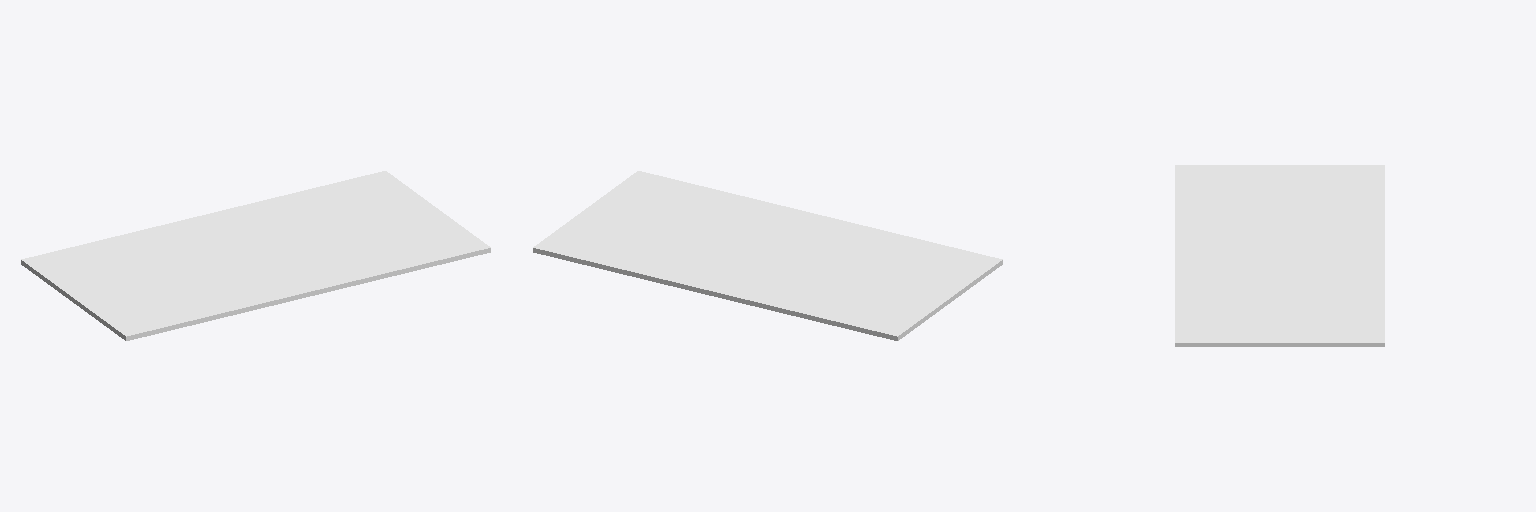
File: groundVox.obj
3 views of the same model, side by side, from view 1: azimuth 30°, elevation 25°; view 2: azimuth 150°, elevation 25°; view 3: azimuth 270°, elevation 25° (orthographic).
Visible parts, largest first — view 1: groundVox; view 2: groundVox; view 3: groundVox.
Part boxes in pixels (x1,y1,x2,y2): groundVox: (21, 171, 490, 340); groundVox: (533, 171, 1002, 340); groundVox: (1175, 165, 1384, 346).
Size of the model in its own units: 80 by 1 by 40.